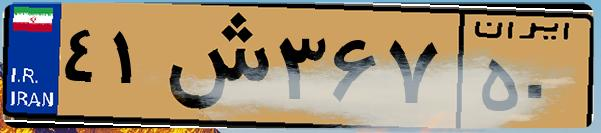0: (525, 38, 570, 115)
1: (110, 28, 158, 98)
3: (270, 28, 330, 110)
4: (57, 26, 110, 100)
5: (475, 38, 525, 113)
6: (330, 28, 385, 110)
7: (385, 28, 445, 110)
ش: (158, 12, 270, 120)
